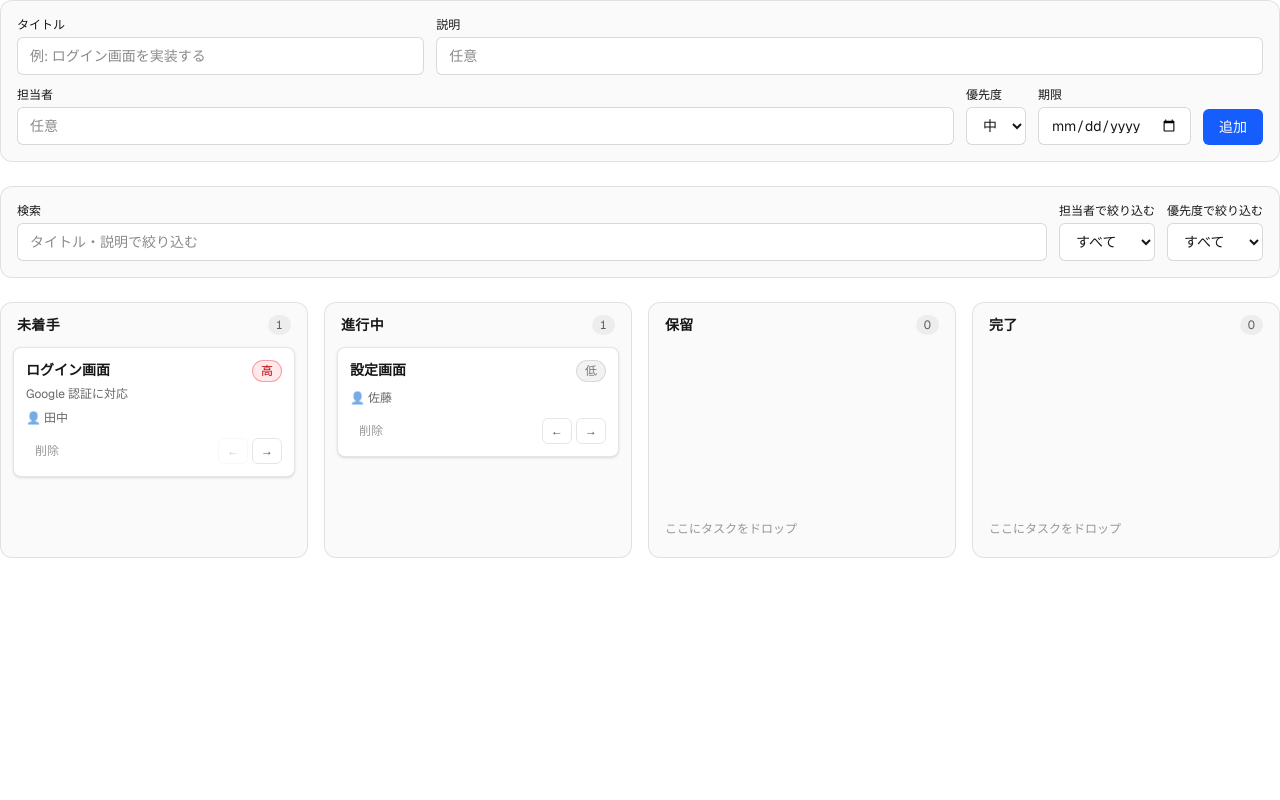
Scenario: Board の絞り込み › キーワードでタイトルを絞り込める
Type "ログイン" into the search field labelled "検索" at coordinates (532, 242), box [17,223,1047,261]
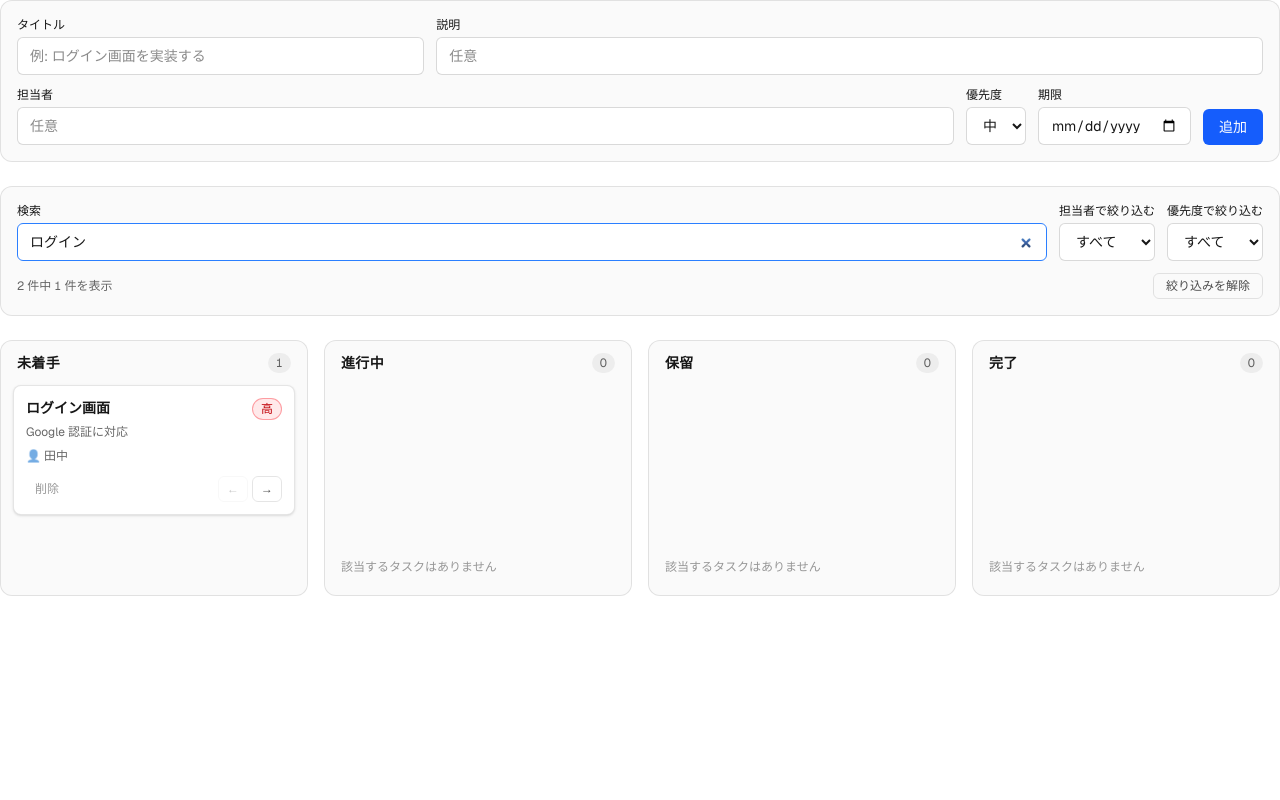
Check: the heading "ログイン画面" is shown, box [26,398,110,418]
Check: the heading "設定画面" is gone
